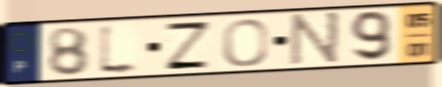8: (46, 25, 92, 78)
9: (347, 10, 394, 64)
L: (96, 21, 145, 78)
N: (287, 10, 343, 68)
O: (221, 17, 271, 69)
Z: (162, 20, 214, 71)
